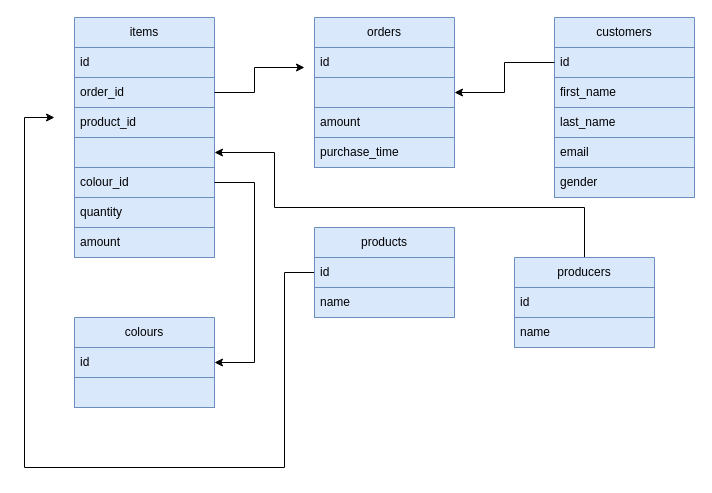
This 712x493 diagram has some shape labels left out. Here are the shapes that lost their labels. From the top down, the centre of each, then its label:
At point (384, 92): "customer_id".
At point (144, 152): "producer_id".
At point (144, 392): "colour".
